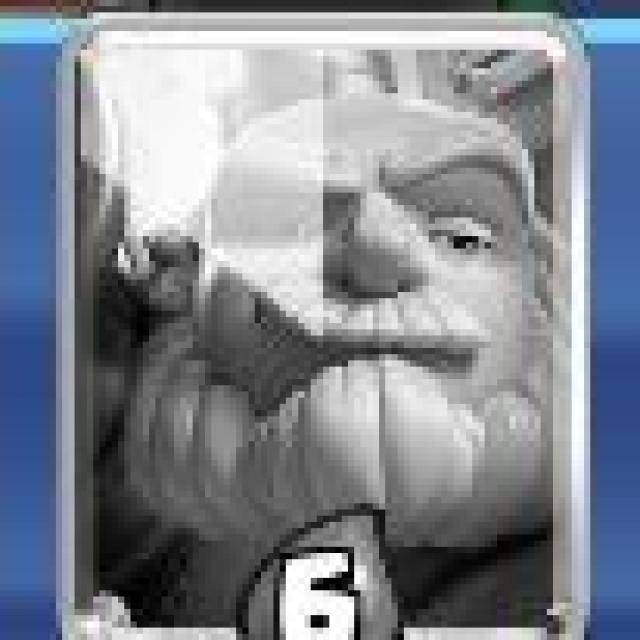Royal_Giant: (55, 14, 587, 640)
